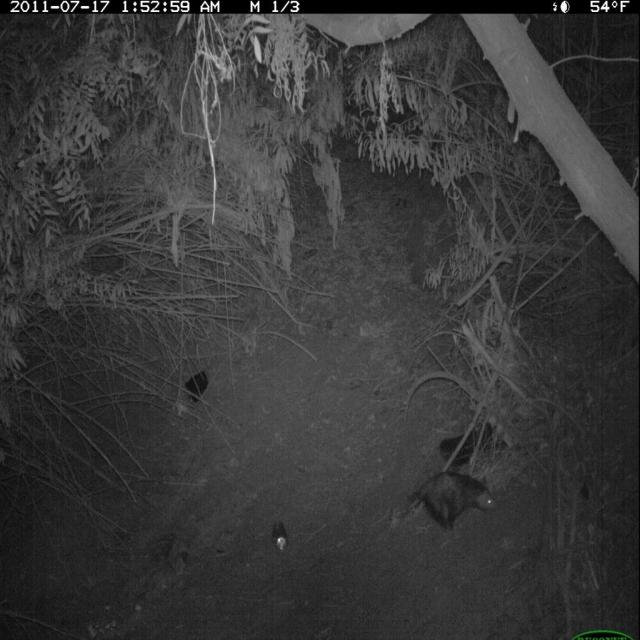opossum: (391, 468, 503, 537)
